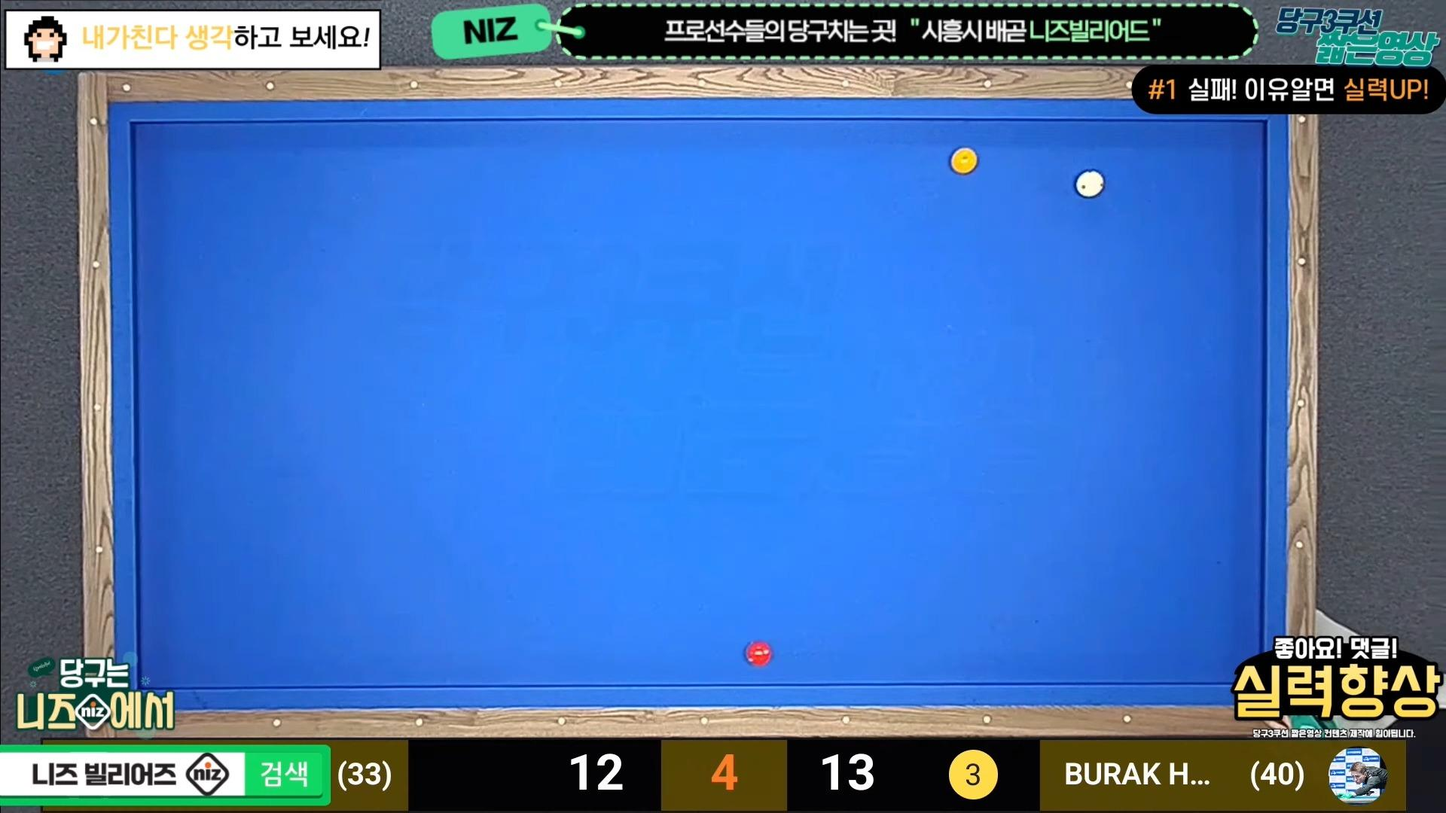Red: (743, 643, 774, 669)
White: (1076, 171, 1109, 199)
Yellow: (948, 146, 981, 175)
